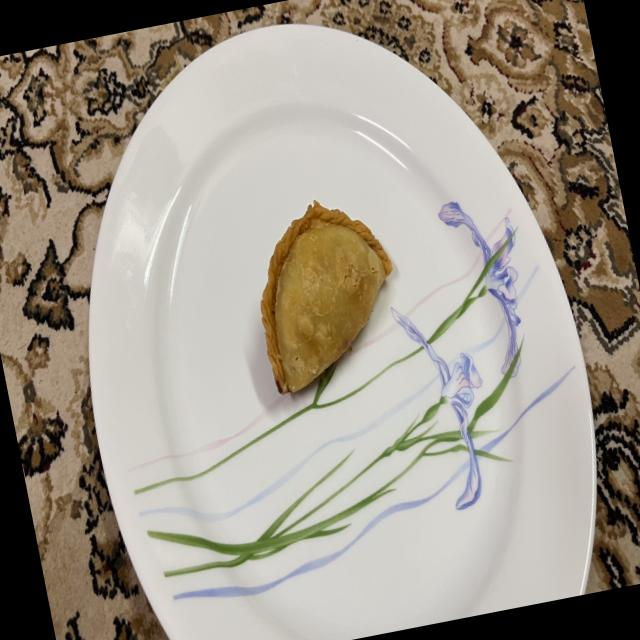karipap: (261, 201, 393, 395)
